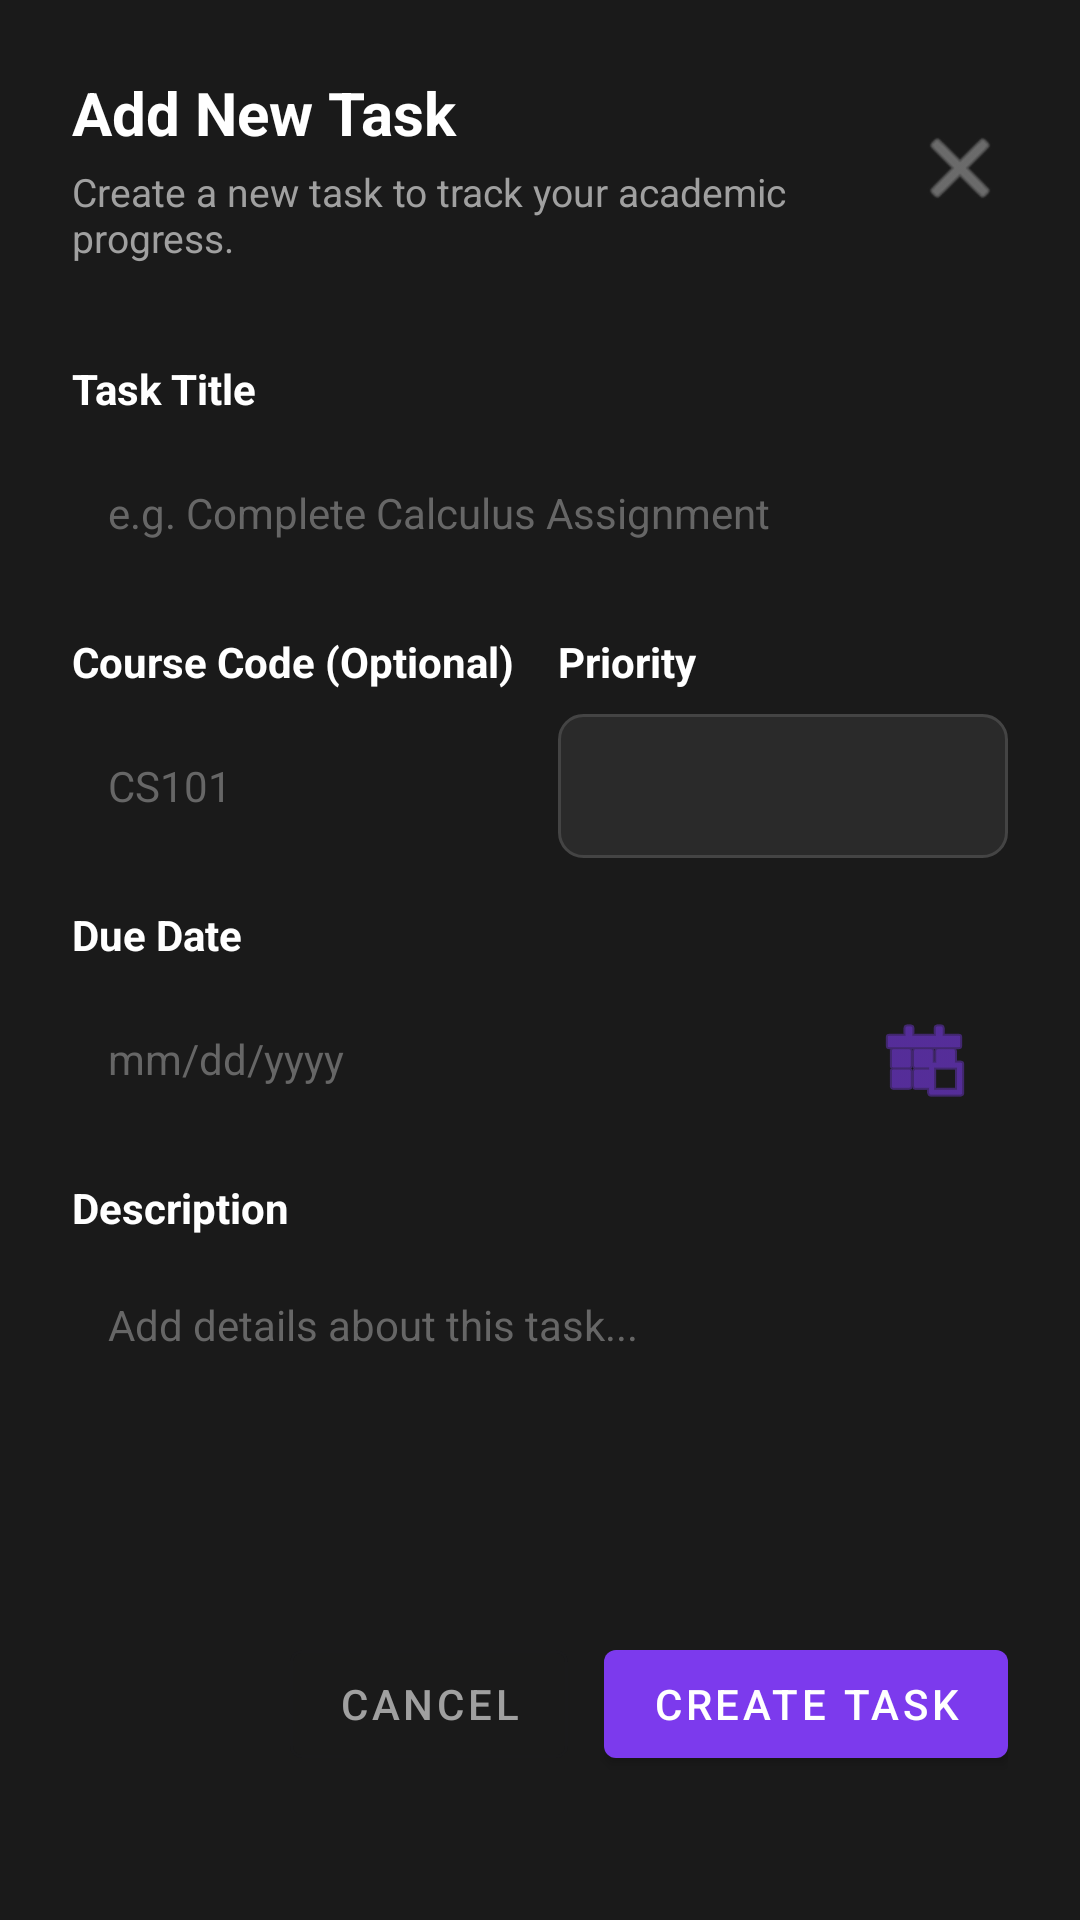

Icons on this 1080*1920 Android screen, each with its box as BBox(x1, y1, x2, y2):
Close: BBox(930, 138, 990, 198)
Pick date: BBox(886, 1024, 964, 1097)
